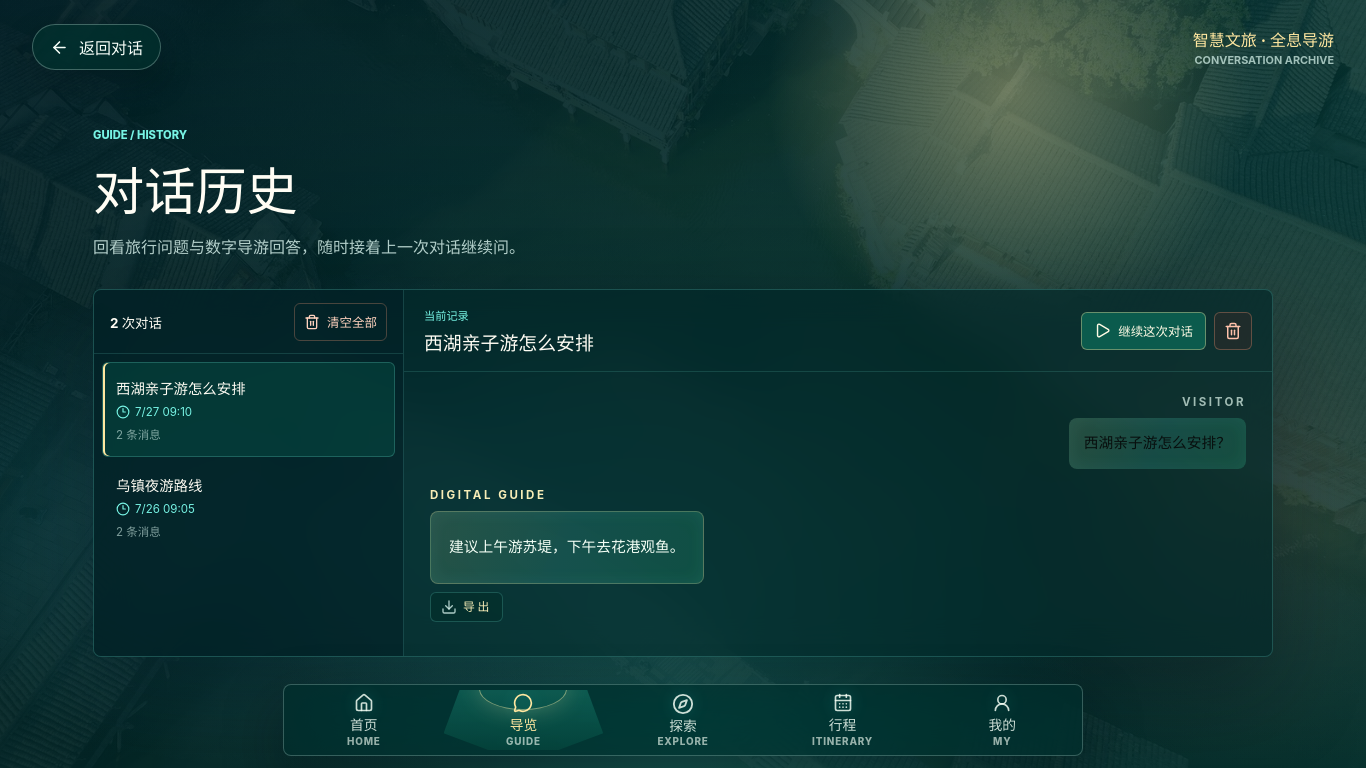
Scenario: HistoryPage › shows saved conversations and lets the visitor inspect a transcript
Expected: the heading "对话历史" is shown, left=93, top=164, right=298, bottom=221
Expected: the text "建议上午游苏堤，下午去花港观鱼。" is shown, left=449, top=535, right=684, bottom=560
What coordinates should you click on to do the following:
click the button "乌镇夜游路线 7/26 09:05 2 条消息"
I would click on:
 (159, 486)
Its box is left=102, top=459, right=395, bottom=554.
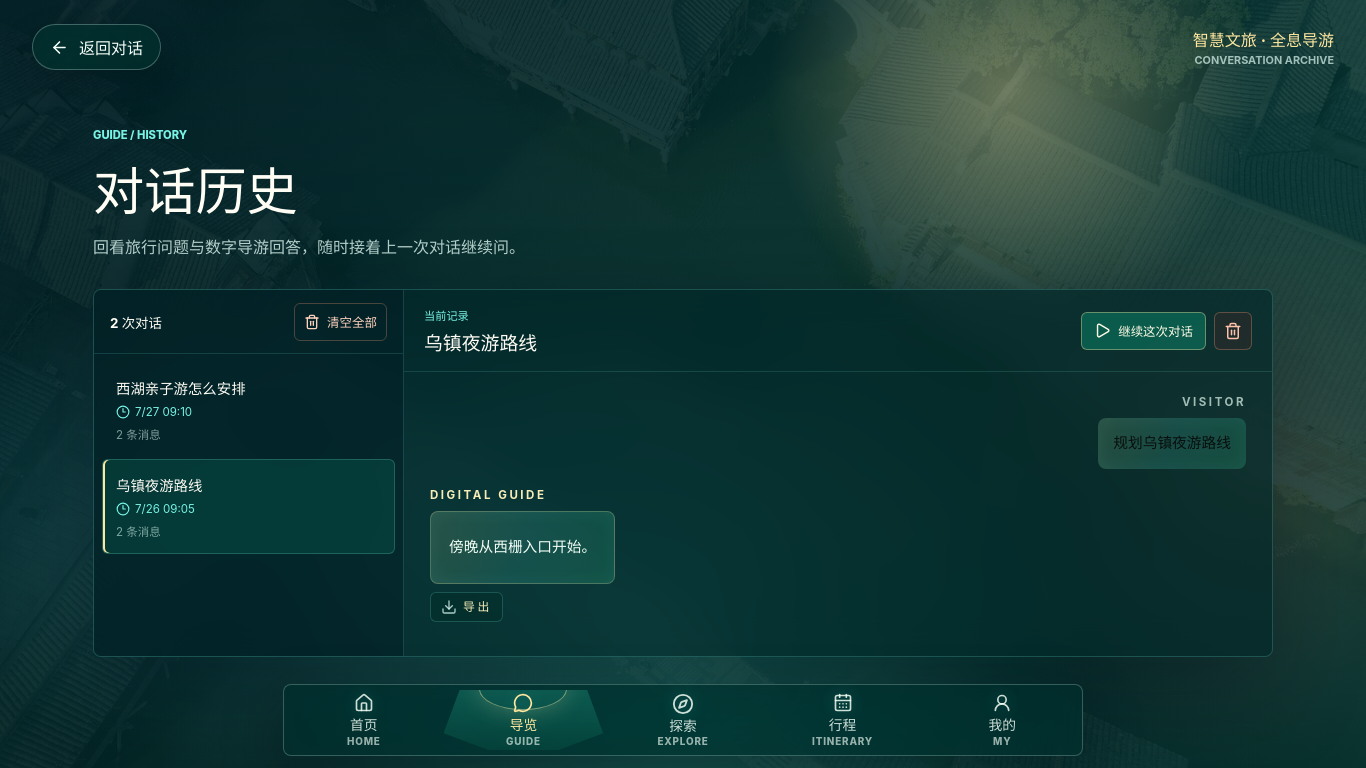
Expected: the text "傍晚从西栅入口开始。" is shown, left=449, top=535, right=596, bottom=560
